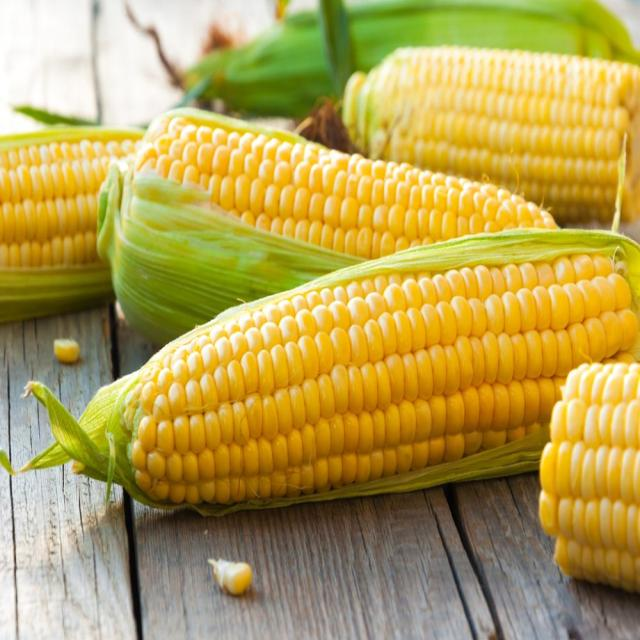corn: (120, 237, 640, 512), (121, 104, 568, 290), (335, 46, 640, 203), (541, 352, 640, 612), (0, 128, 146, 292)
